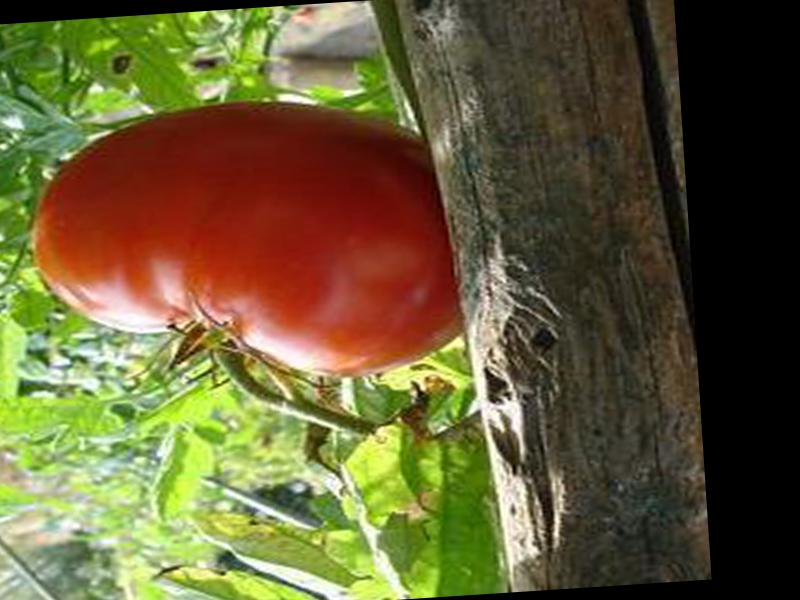Tomato: (23, 91, 472, 396)
